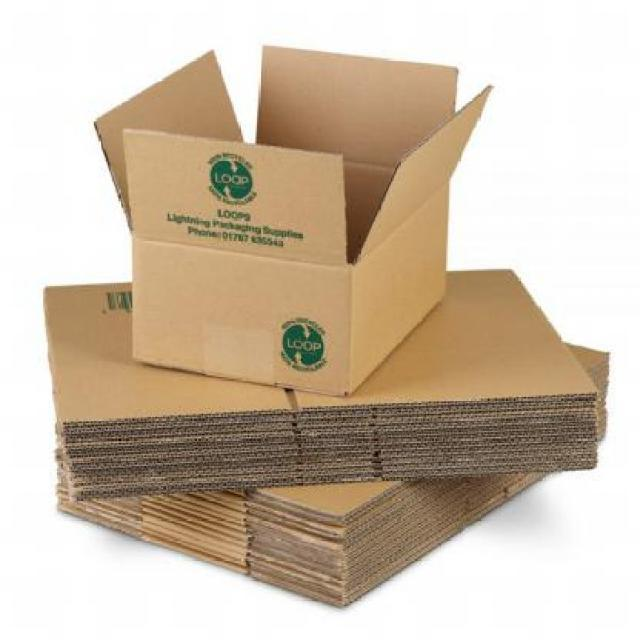box: (98, 50, 475, 397)
